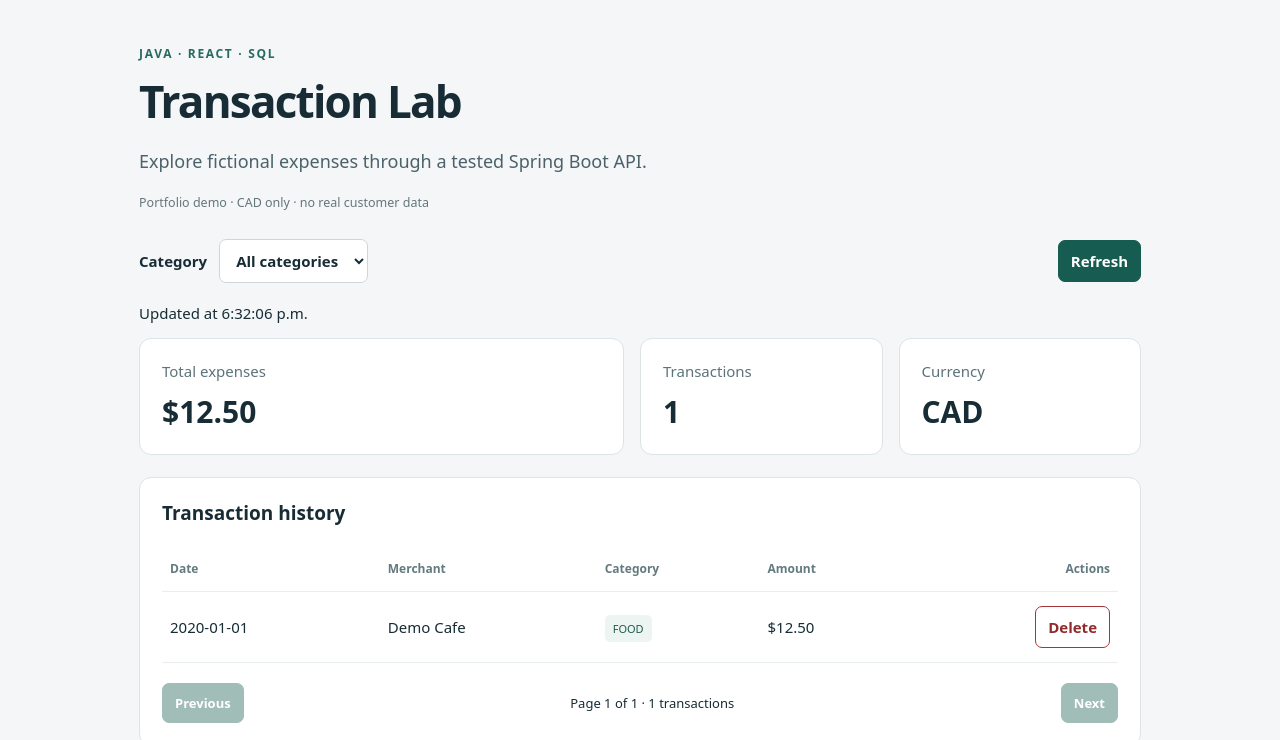
Test case: requires confirmation and refreshes the empty table after deletion
Expected: the text "Demo Cafe" is shown, [380,592,597,662]
Click the button with aria-label "Delete expense at Demo Cafe" at (1073, 627), box [1035,606,1110,648]
(page scrolled)
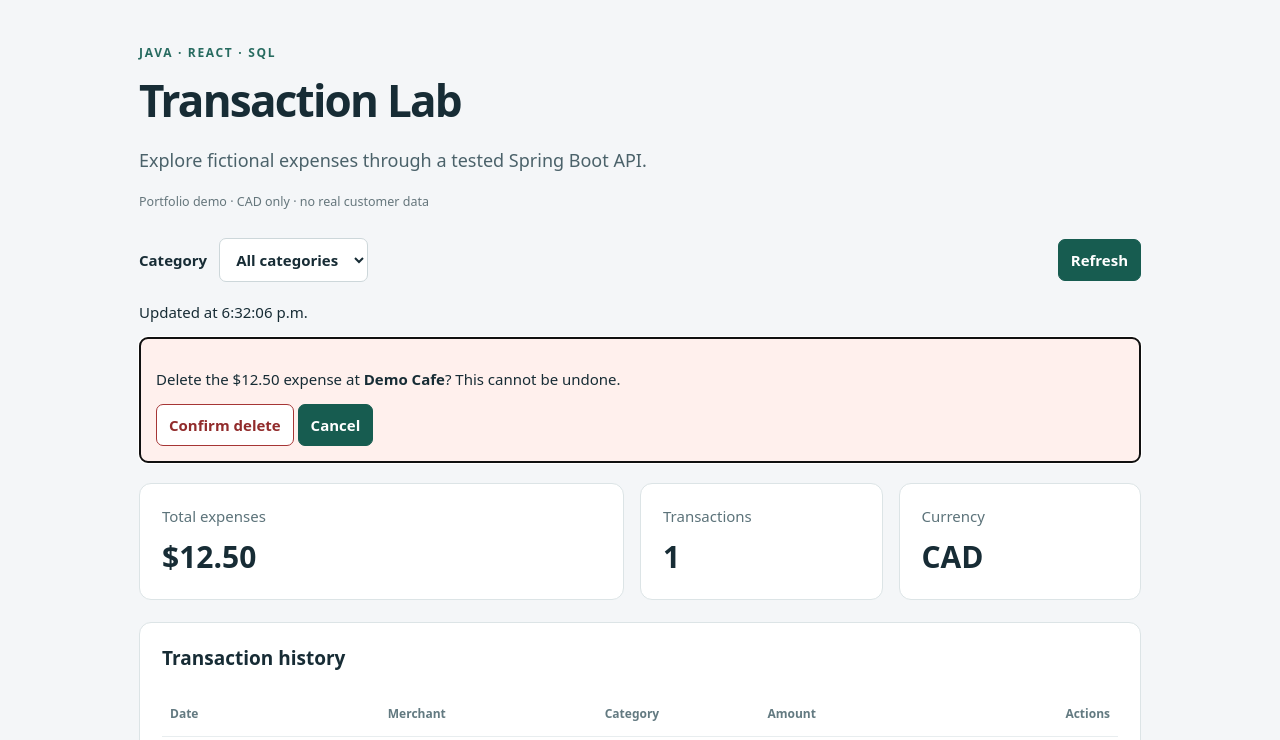
Click the button "Cancel" at (335, 425), box [298,404,373,446]
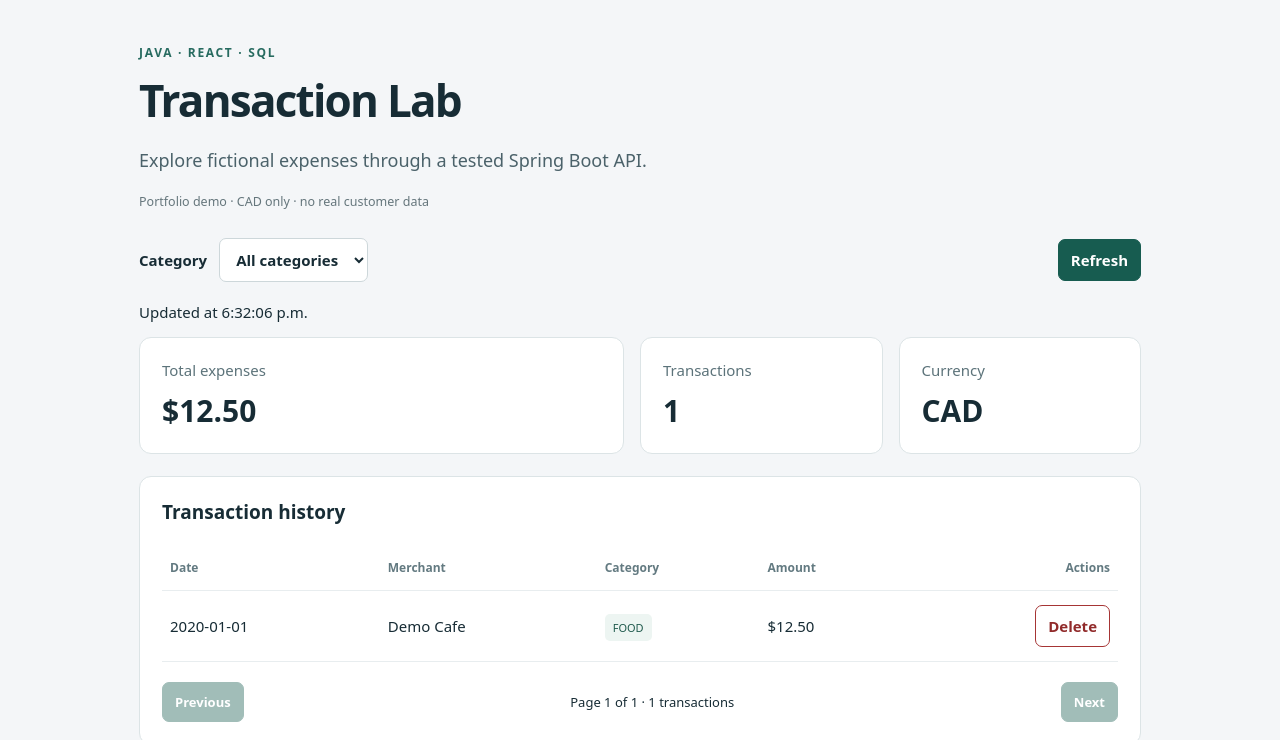
Click the button with aria-label "Delete expense at Demo Cafe" at (1073, 626), box [1035,605,1110,647]
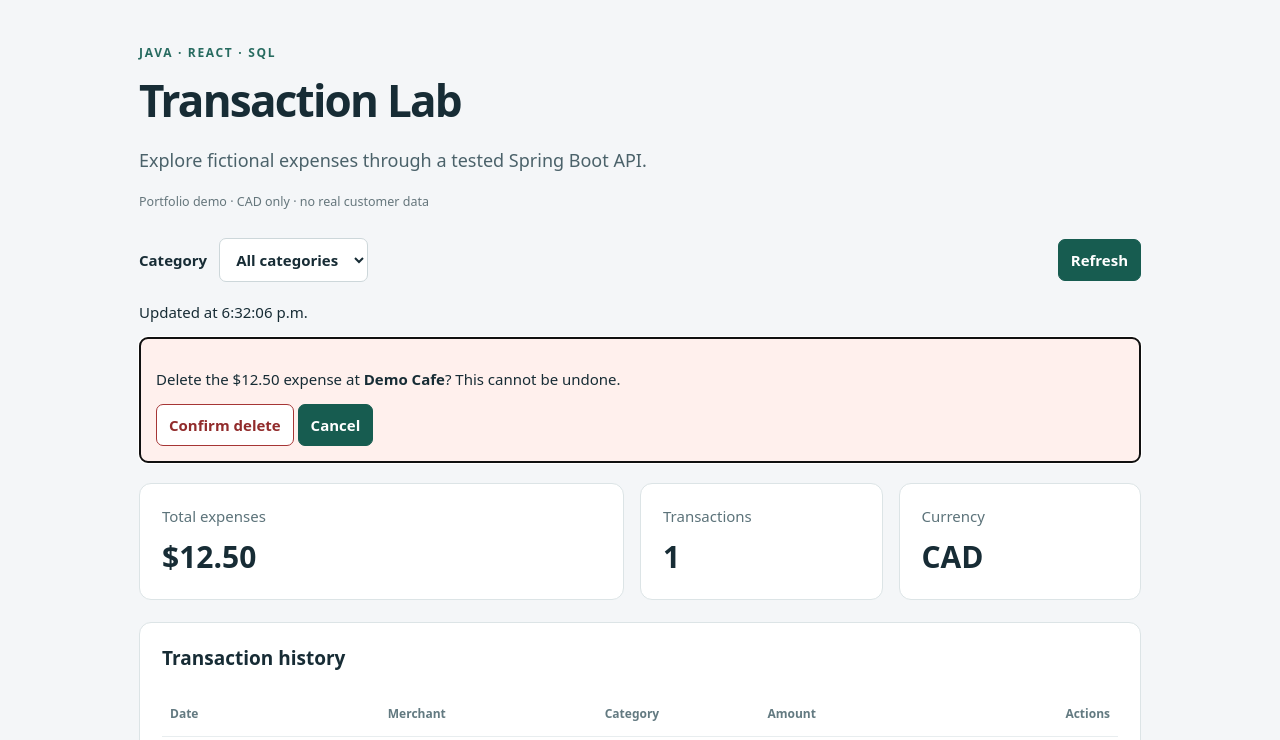
Click the button "Confirm delete" at (225, 425), box [156,404,294,446]
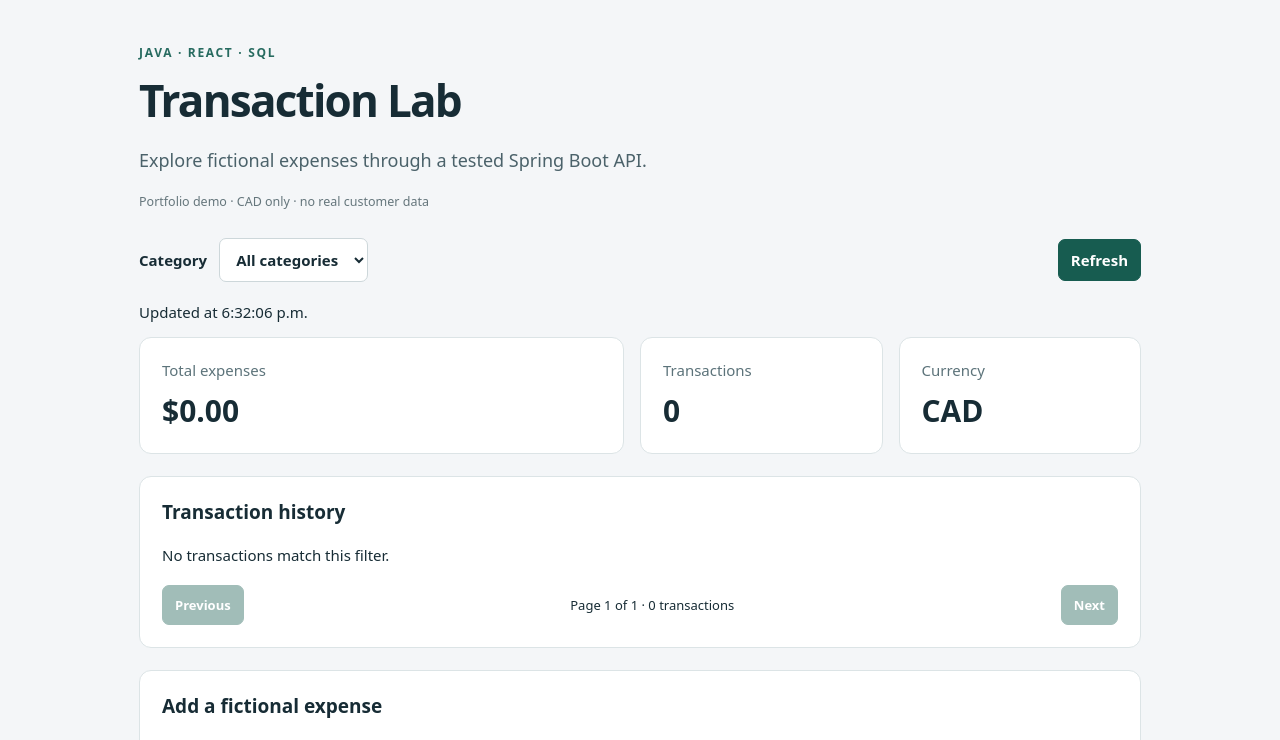
Expected: the text "No transactions match this filter." is shown, [162,545,389,565]
Expected: the text "$0.00" is shown, [162,390,239,431]
